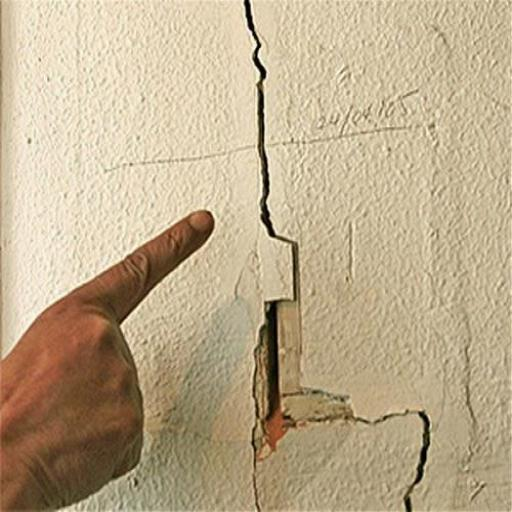spalling: (237, 7, 312, 509), (363, 400, 441, 509)
